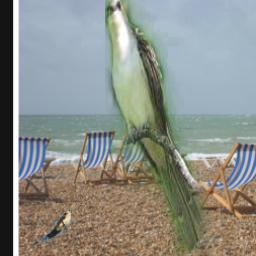Cuckoo: (106, 0, 221, 256)
Swallow: (39, 210, 72, 244)
